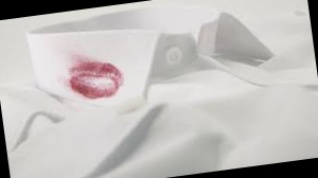lipstick: (69, 56, 127, 99)
